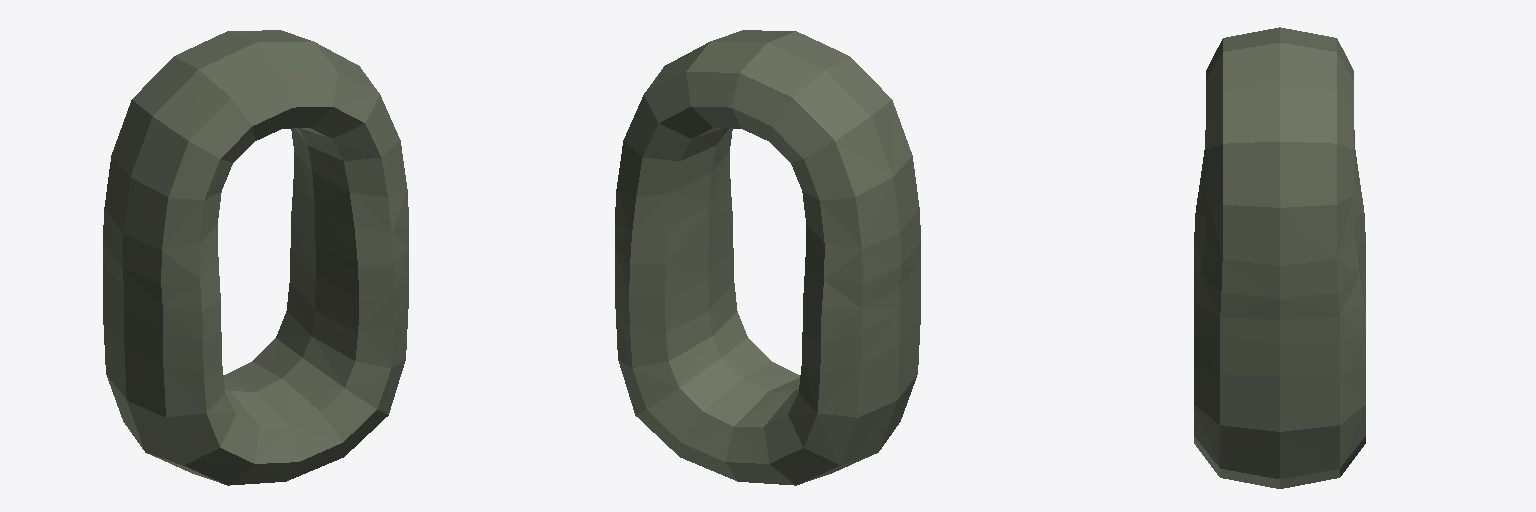
File: Numbers_0.obj
3 renders of one model, left to right at view 1: azimuth 30°, elevation 25°; view 2: azimuth 150°, elevation 25°; view 3: azimuth 270°, elevation 25°, orthographic.
Parts seen in each view (by area): view 1: Numbers_0_Cube.022; view 2: Numbers_0_Cube.022; view 3: Numbers_0_Cube.022.
Part boxes in pixels (x1,y1,x2,y2): Numbers_0_Cube.022: (103,30,408,485); Numbers_0_Cube.022: (615,30,920,485); Numbers_0_Cube.022: (1194,27,1365,488).
Size of the model in its own units: 0.7295 by 1.12 by 0.4068.